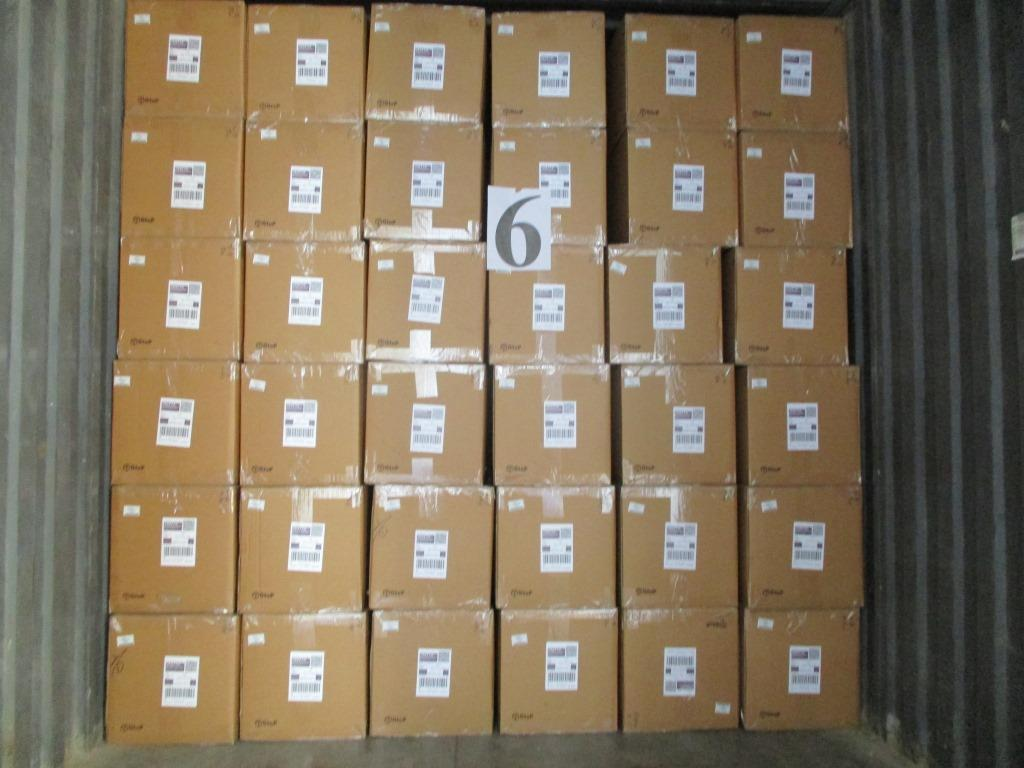carton: (106, 614, 240, 745), (236, 485, 368, 612), (240, 612, 368, 741), (109, 484, 237, 613), (369, 608, 495, 736), (111, 359, 240, 484), (368, 484, 494, 609), (118, 236, 244, 360), (739, 485, 863, 609), (240, 361, 364, 485), (609, 127, 737, 247), (609, 13, 737, 132), (364, 361, 487, 484), (495, 485, 617, 609), (617, 484, 738, 609), (497, 608, 617, 734), (736, 365, 860, 486), (243, 241, 366, 362), (120, 116, 243, 237), (619, 606, 738, 731), (365, 240, 486, 362), (243, 121, 365, 242), (724, 247, 849, 365), (615, 363, 736, 484), (362, 120, 483, 241), (365, 2, 486, 122), (491, 364, 610, 486), (742, 607, 860, 729), (124, 0, 245, 117), (246, 4, 367, 121), (606, 243, 723, 363), (487, 243, 604, 363), (489, 126, 606, 244), (490, 10, 606, 126), (738, 130, 853, 247), (735, 14, 848, 131)
